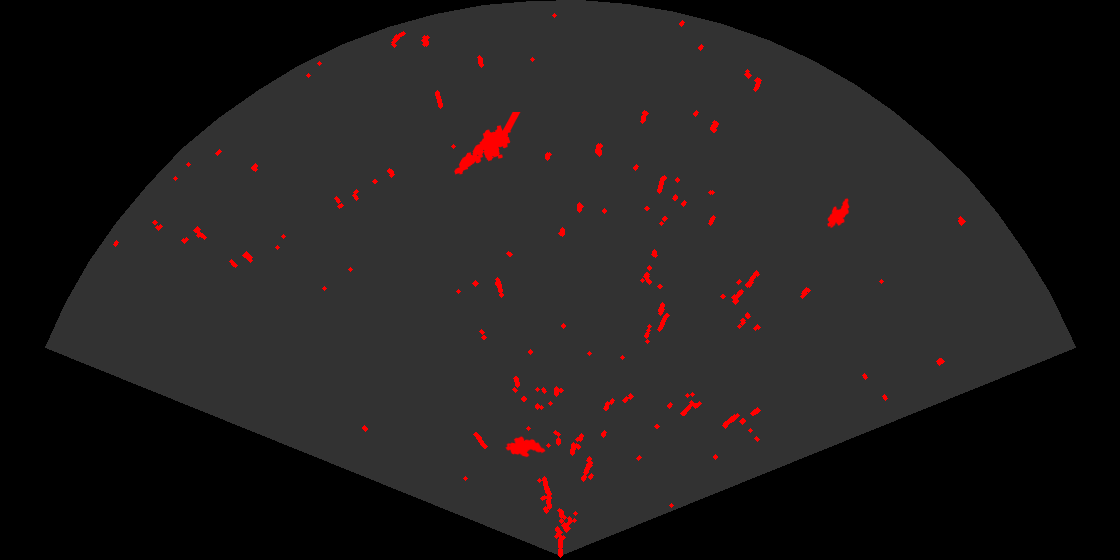AUV: (504, 434, 547, 459), (826, 197, 851, 230)
frogman: (453, 112, 521, 176)
